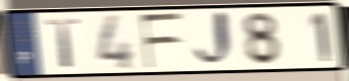1: (309, 11, 333, 63)
4: (95, 13, 139, 72)
8: (241, 10, 283, 66)
F: (138, 11, 184, 71)
J: (191, 9, 237, 71)
T: (43, 17, 83, 70)
